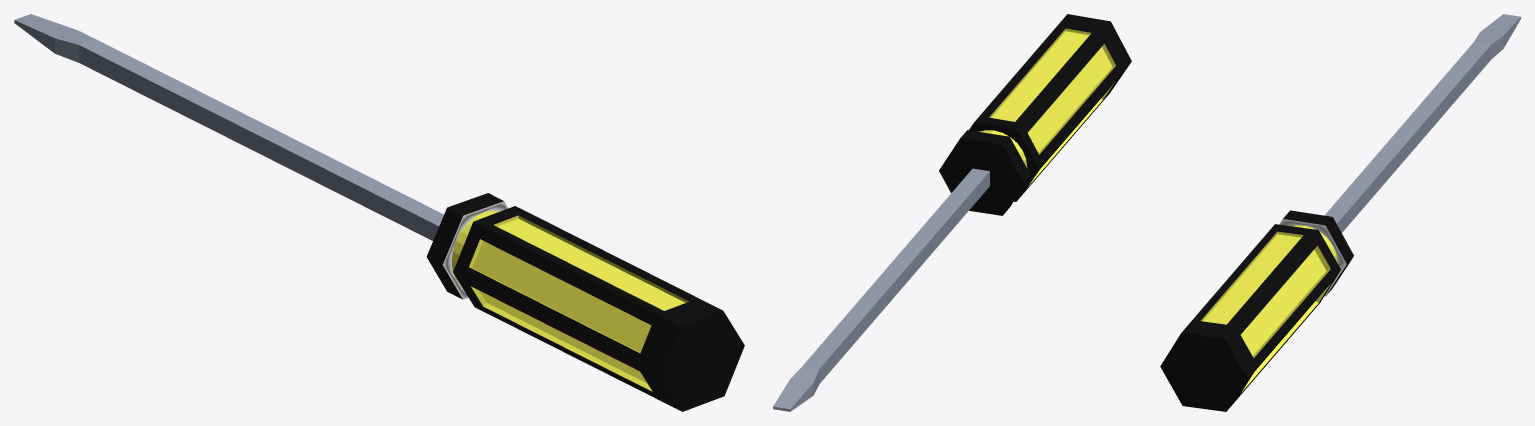
The model's file is outil 06.FBX.
The picture shows the model from 3 angles, left to right: view 1: azimuth 30°, elevation 25°; view 2: azimuth 150°, elevation 25°; view 3: azimuth 330°, elevation 25°; orthographic projection. The views are drawn at different scales.
Parts seen in each view (by area): view 1: Mesh06; view 2: Mesh06; view 3: Mesh06.
Boxes of the visible parts, box(x1,y1,x2,y2) form: Mesh06: box(14, 14, 744, 411); Mesh06: box(773, 14, 1131, 411); Mesh06: box(1160, 14, 1520, 411).
Size of the model in its own units: 0.6768 by 0.2621 by 2.88.
